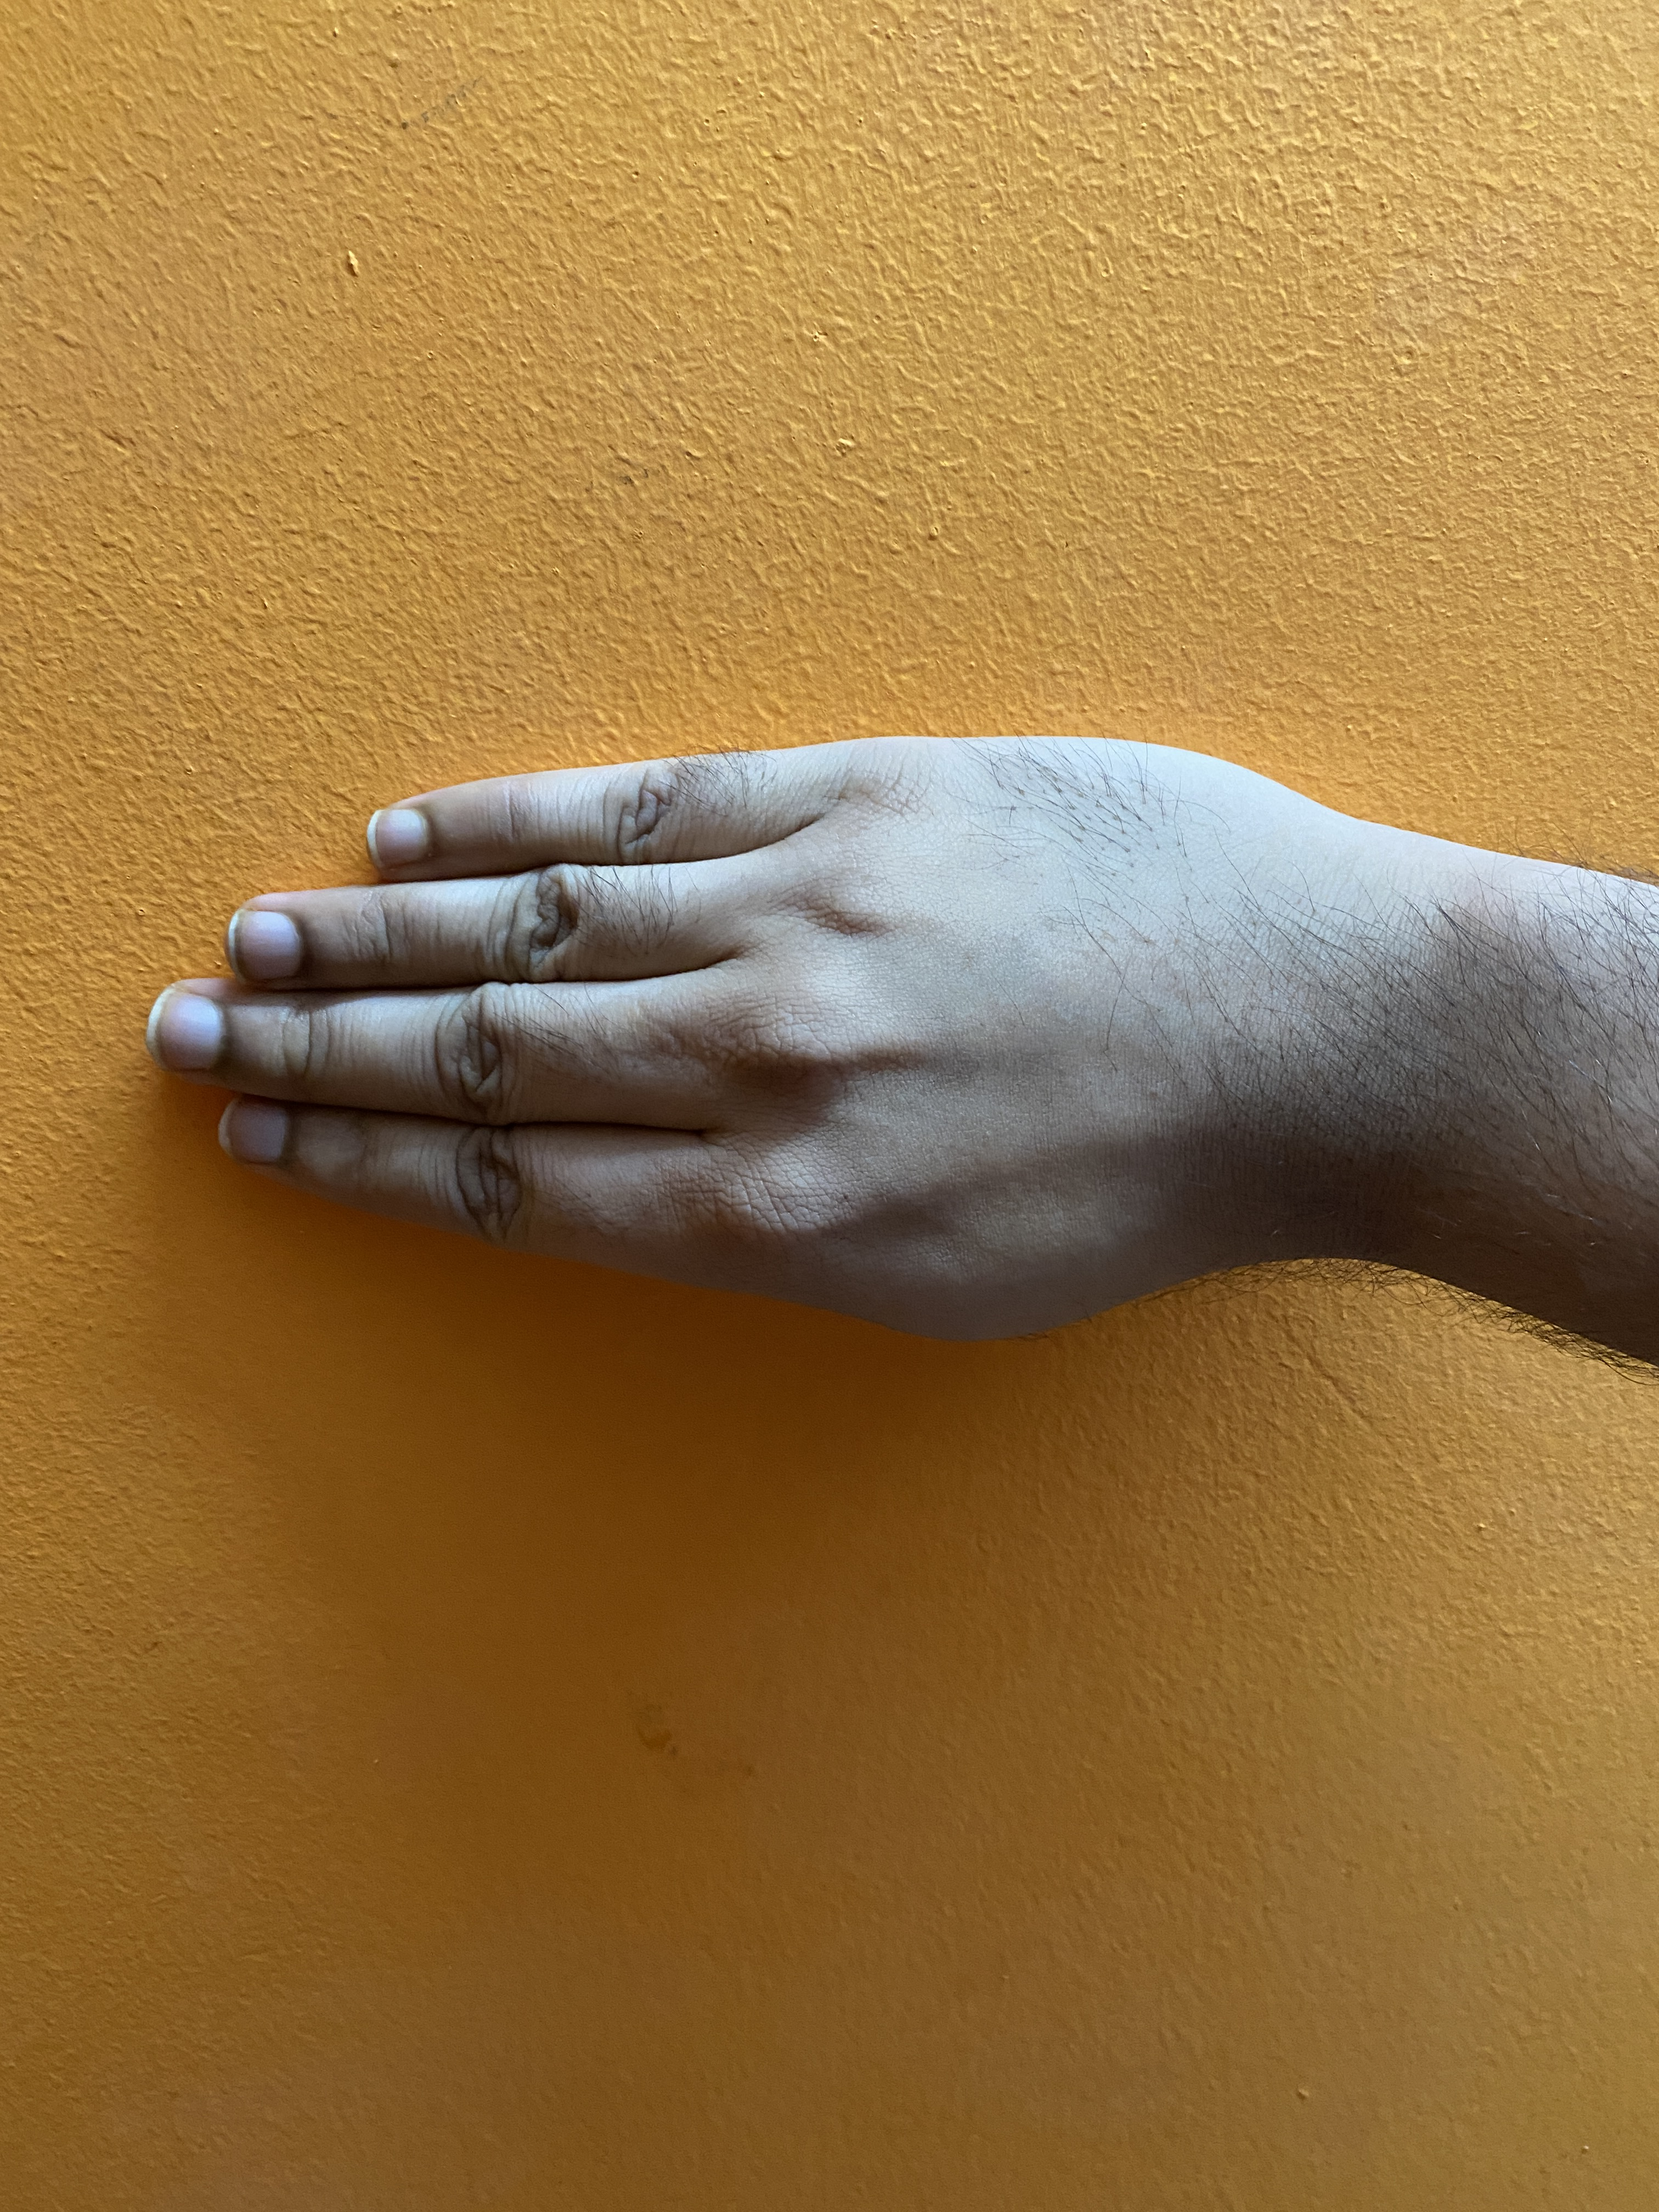right: (91, 583, 1659, 1588)
